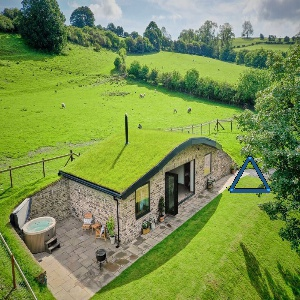triangle: (225, 153, 272, 196)
